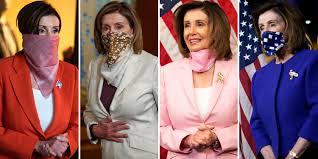mask_weared_incorrect: (184, 19, 212, 60)
with_mask: (101, 21, 131, 45), (259, 20, 283, 44), (37, 22, 60, 47)
